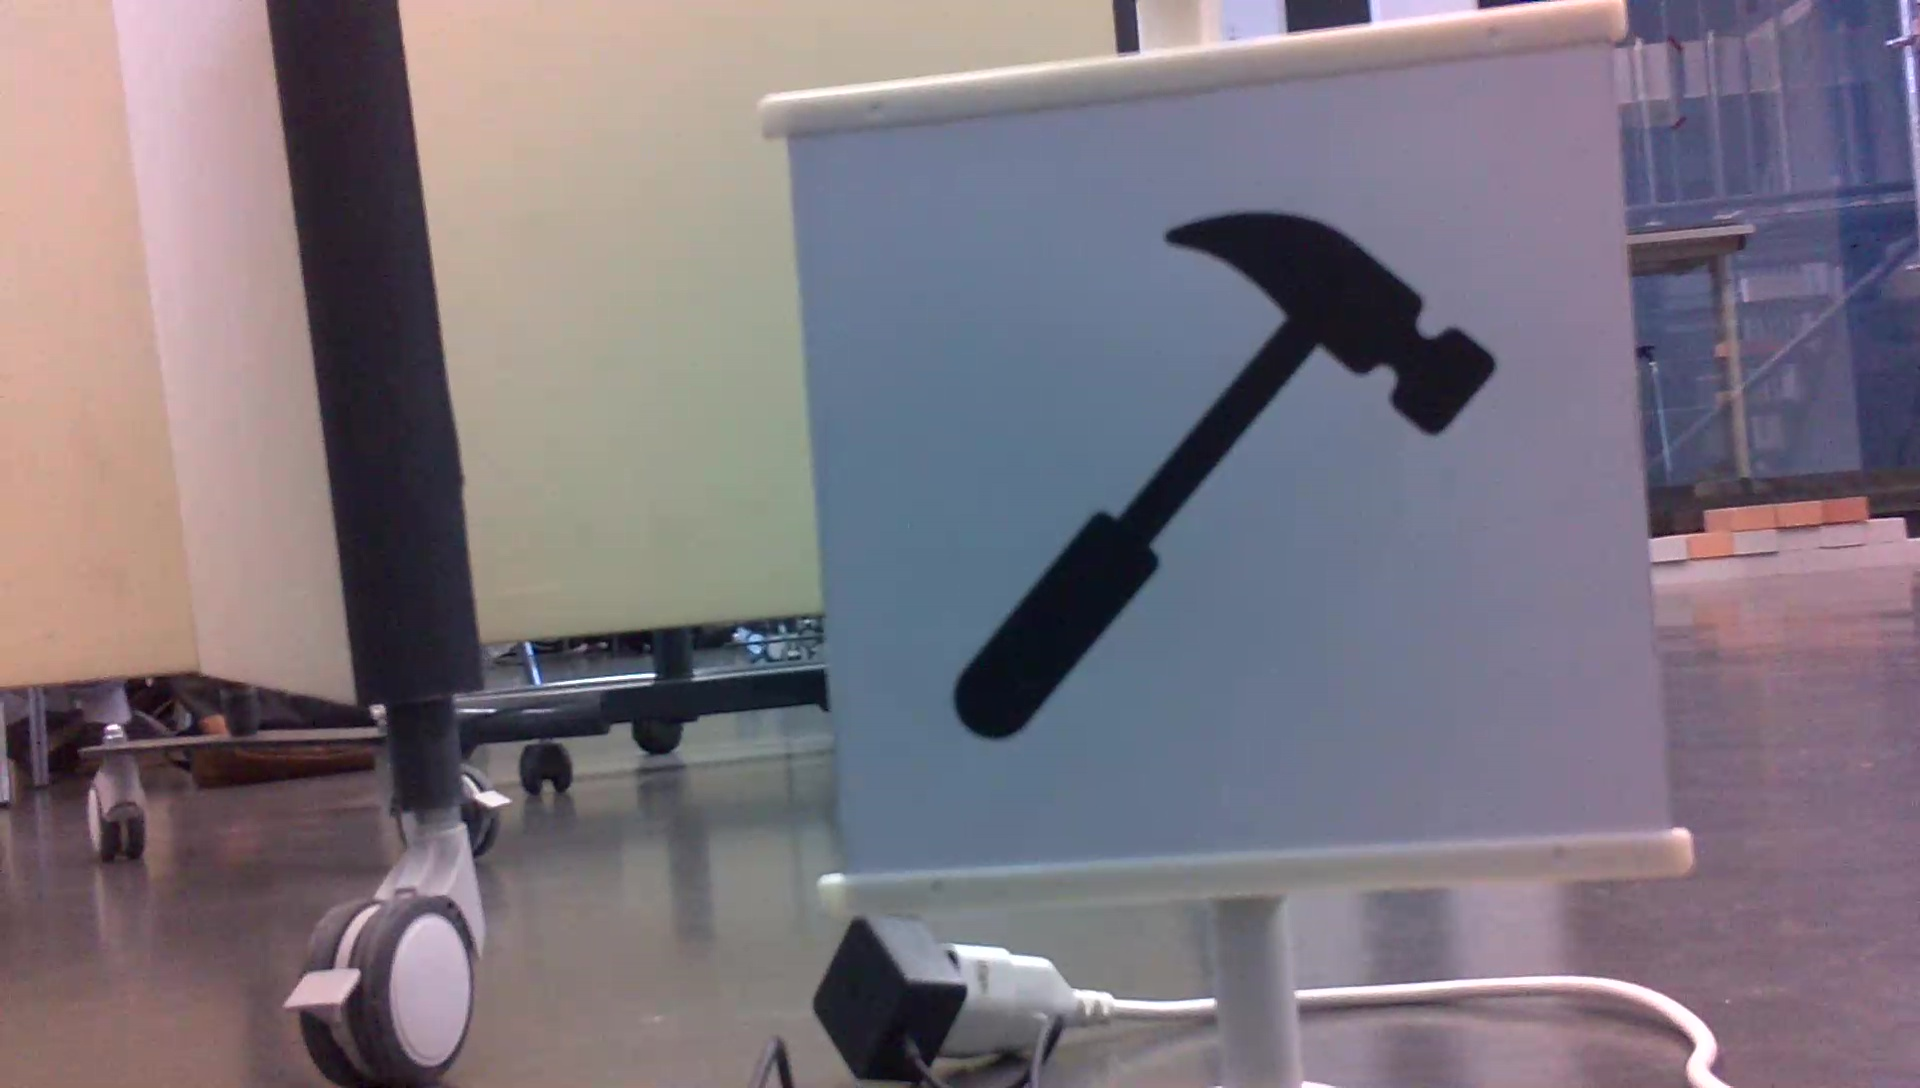hammer: (935, 200, 1509, 750)
